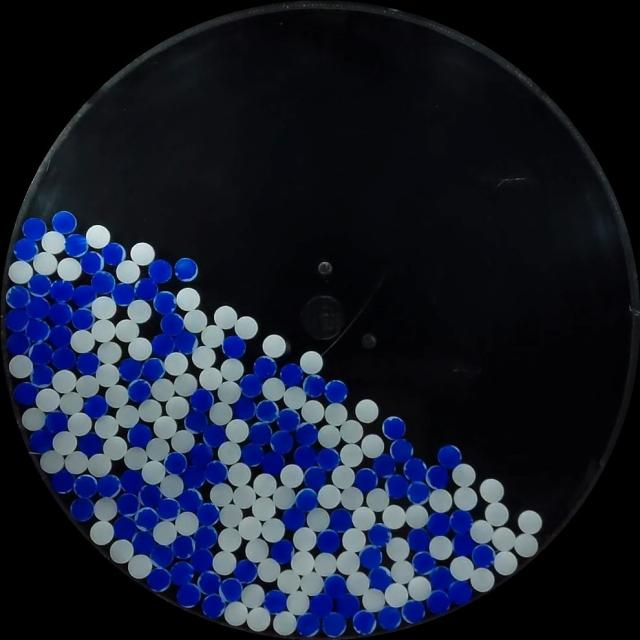pmmma-azul: (120, 470, 150, 494), (129, 530, 157, 554), (447, 579, 472, 605), (28, 428, 54, 453), (180, 465, 206, 490), (90, 270, 115, 295), (29, 342, 54, 367), (83, 394, 108, 419), (73, 474, 98, 499), (368, 566, 393, 591), (13, 381, 38, 406), (403, 457, 428, 482), (78, 432, 103, 457), (5, 308, 30, 333), (452, 532, 477, 557), (202, 422, 226, 448), (170, 562, 194, 588), (202, 593, 226, 619), (336, 592, 360, 618), (50, 470, 75, 494), (178, 488, 202, 513), (449, 509, 473, 534), (134, 506, 158, 531), (49, 324, 73, 349), (196, 502, 220, 527), (96, 474, 121, 498), (116, 492, 140, 517), (377, 606, 402, 630), (401, 599, 425, 624), (239, 373, 263, 398), (194, 525, 218, 550), (426, 512, 451, 536), (354, 467, 378, 492), (26, 295, 51, 319), (407, 527, 431, 552), (324, 379, 349, 403), (149, 542, 173, 567), (322, 612, 346, 637), (436, 444, 461, 468), (426, 589, 450, 614), (428, 566, 453, 590), (282, 506, 306, 531), (151, 333, 175, 358), (13, 238, 39, 261), (270, 429, 294, 453), (134, 278, 158, 302), (264, 590, 288, 614), (303, 466, 327, 490), (128, 423, 152, 447), (352, 610, 376, 634), (128, 378, 152, 402), (204, 460, 228, 484), (138, 484, 162, 508), (50, 279, 74, 303), (234, 559, 258, 583), (329, 508, 353, 532), (260, 451, 284, 475), (294, 488, 318, 512), (270, 539, 294, 563), (148, 259, 172, 283), (389, 438, 413, 462), (44, 410, 68, 434), (147, 568, 171, 592), (316, 529, 340, 553), (406, 480, 430, 504), (253, 356, 277, 380), (323, 574, 347, 598), (172, 330, 196, 354), (219, 578, 243, 602), (30, 363, 54, 387), (411, 550, 435, 574), (425, 465, 449, 489), (160, 312, 184, 336), (382, 415, 406, 439), (302, 374, 326, 398), (26, 318, 50, 342), (70, 497, 94, 521), (6, 286, 30, 310), (72, 284, 96, 308), (112, 516, 136, 540), (190, 548, 214, 572), (177, 582, 200, 607), (48, 302, 73, 325), (51, 347, 76, 370), (190, 388, 213, 413), (52, 211, 77, 234), (295, 612, 318, 637), (471, 543, 494, 568), (64, 234, 89, 257), (76, 352, 100, 375), (295, 422, 318, 446), (198, 570, 221, 594), (164, 451, 187, 475), (359, 545, 382, 569), (118, 358, 142, 381), (316, 447, 339, 471), (222, 335, 246, 358), (249, 421, 272, 445), (22, 217, 46, 240), (112, 282, 136, 305), (102, 242, 125, 266), (156, 497, 180, 520), (153, 291, 177, 314), (7, 332, 30, 356), (80, 251, 104, 274), (296, 614, 319, 638), (175, 257, 198, 281), (309, 593, 332, 617), (386, 474, 408, 499), (27, 274, 52, 296), (71, 307, 94, 330), (280, 363, 303, 386), (276, 408, 299, 431), (172, 535, 194, 559), (184, 410, 208, 432), (257, 399, 281, 421), (373, 452, 393, 478), (142, 358, 164, 381), (368, 524, 391, 546), (192, 444, 214, 467), (233, 396, 254, 420), (294, 445, 314, 469), (243, 444, 264, 466)
